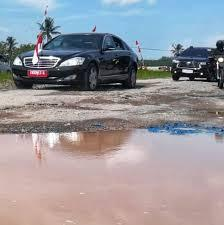Pothole: (0, 117, 224, 225), (178, 82, 224, 108), (194, 105, 224, 122)
